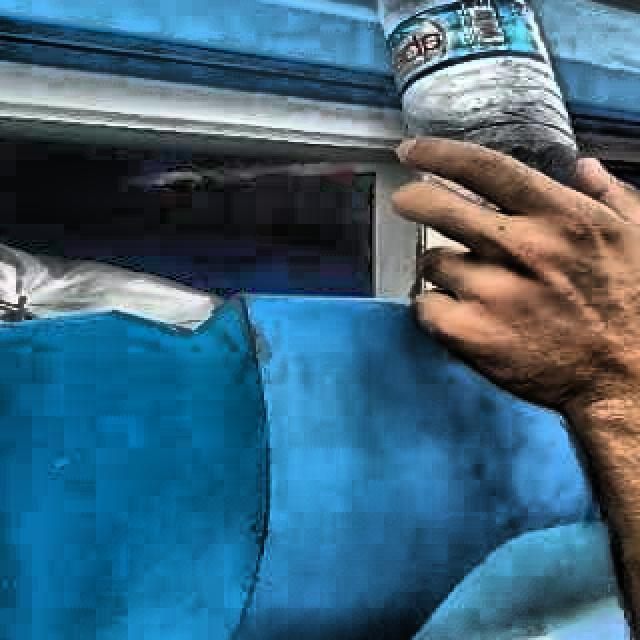plastic: (382, 0, 577, 179)
